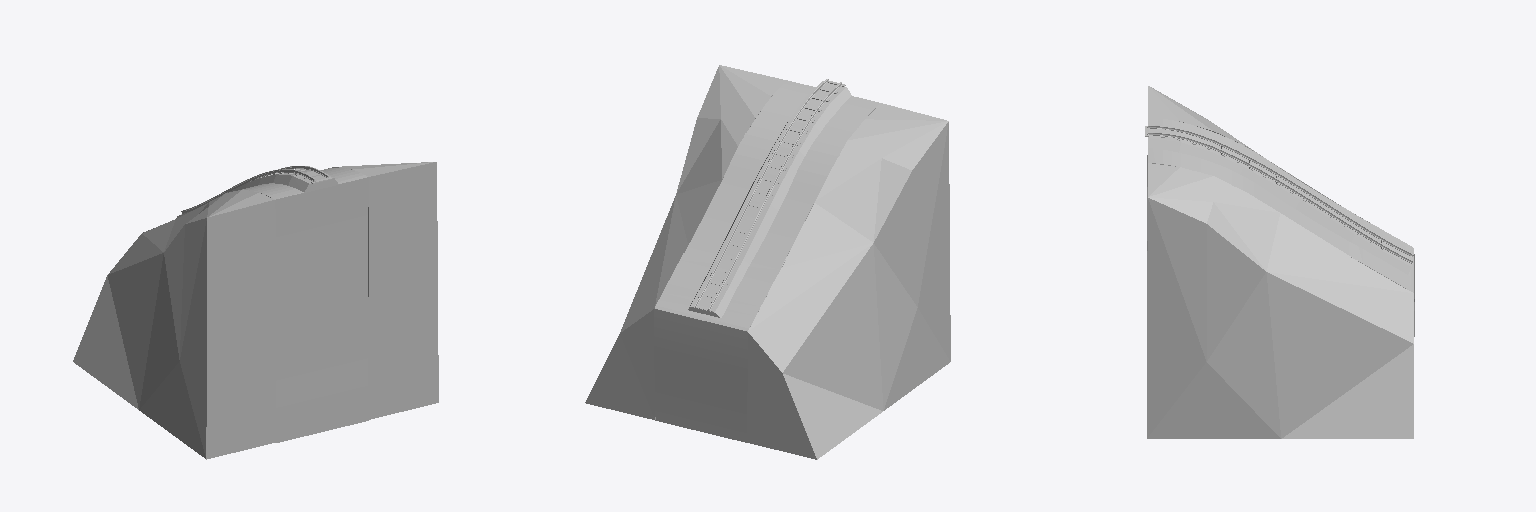
Rendered from 05_rail_incline_end.obj.
3 views of the same model, side by side, from view 1: azimuth 30°, elevation 25°; view 2: azimuth 150°, elevation 25°; view 3: azimuth 270°, elevation 25° (orthographic).
Parts seen in each view (by area): view 1: Tile_InclineB_Track.002; view 2: Tile_InclineB_Track.002; view 3: Tile_InclineB_Track.002.
Part boxes in pixels (x1,y1,x2,y2): Tile_InclineB_Track.002: (73,162,438,459); Tile_InclineB_Track.002: (585,65,950,459); Tile_InclineB_Track.002: (1145,86,1414,438).
Size of the model in its own units: 1 by 1.05 by 1.01.